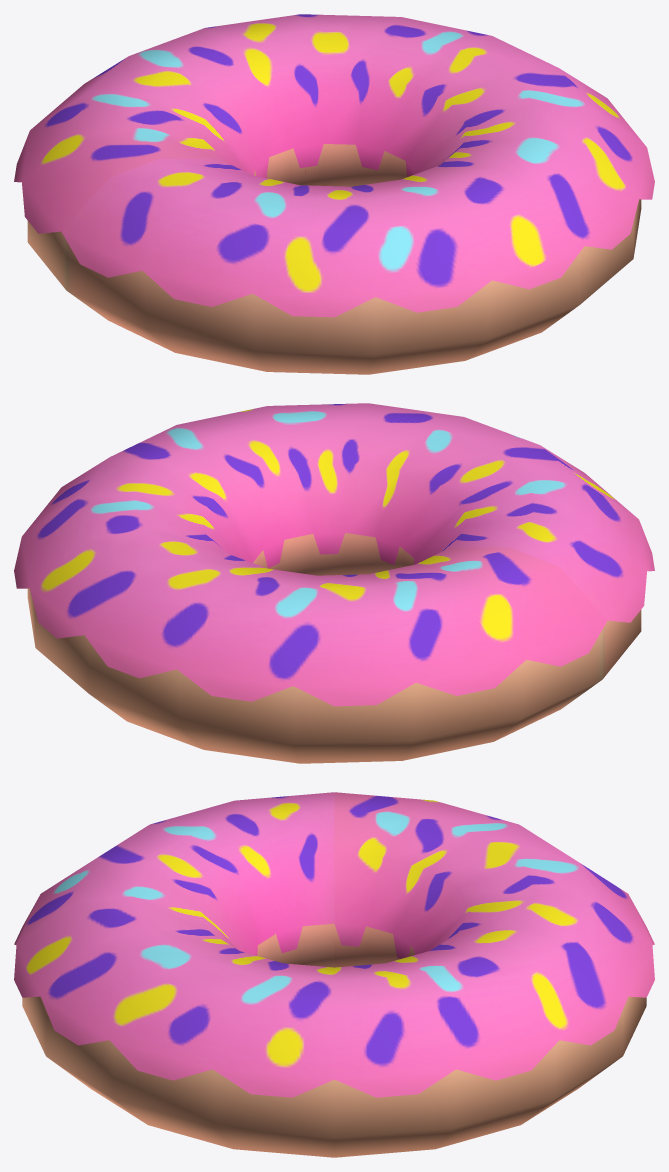
The model's file is donut.fbx.
The picture shows the model from 3 angles, top to bottom: view 1: azimuth 30°, elevation 25°; view 2: azimuth 150°, elevation 25°; view 3: azimuth 270°, elevation 25°; orthographic projection.
Parts seen in each view (by area): view 1: donut; view 2: donut; view 3: donut.
Boxes of the visible parts, bbox=[...] form: donut: bbox=[14, 14, 654, 374]; donut: bbox=[14, 403, 654, 763]; donut: bbox=[14, 792, 654, 1157].
Size of the model in its own units: 61.59 by 15.97 by 61.59.
